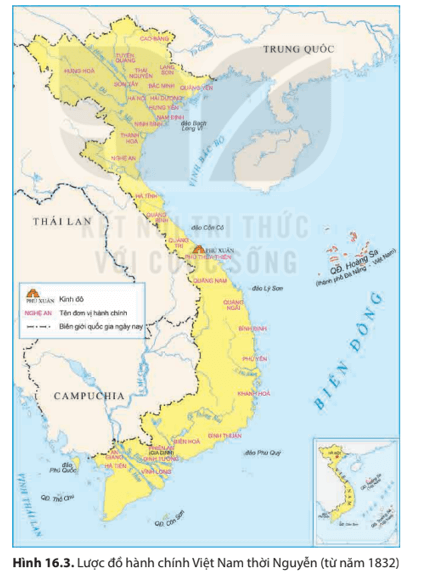Island: (310, 221, 397, 287), (371, 506, 395, 530), (361, 472, 384, 492)
